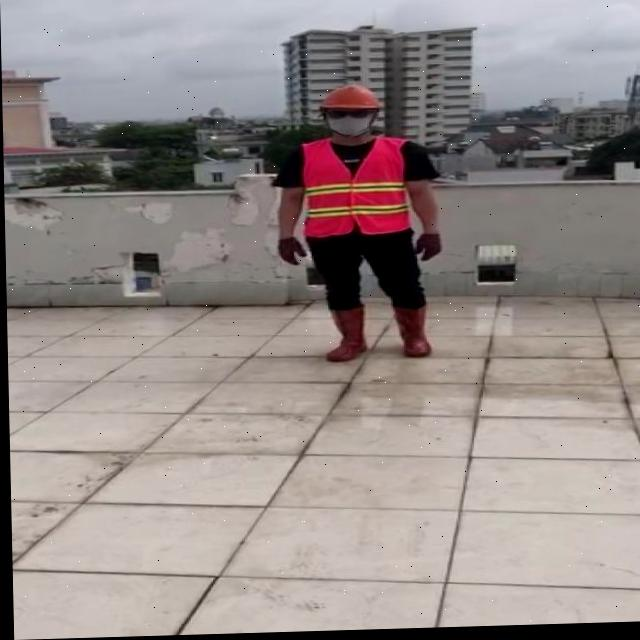Gloves: (277, 238, 306, 267), (415, 235, 442, 263)
Helmet: (318, 86, 383, 140)
Safety-Boot: (324, 306, 366, 363), (393, 304, 431, 359)
Safety-Vest: (301, 136, 412, 242)
